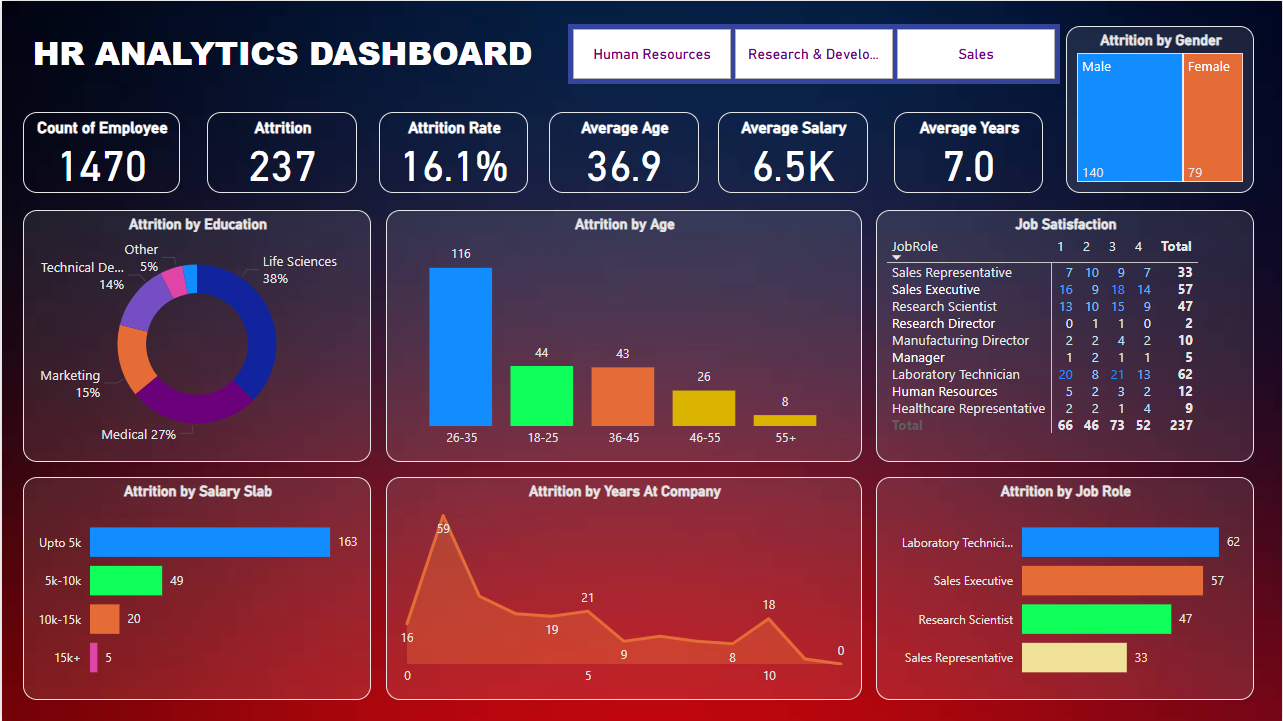

Layout of this report page (visuals, bound fields, positions):
{"tool":"powerbi","page":{"name":"Page 1","canvas":[1280,720],"ordinal":0},"visuals":[{"type":"card","title":"Count of Employee","fields":{"Values":["CountNonNull(HR_Analytics.EmpID)"]},"box":[20.6,111.3,157.1,80.8],"z":0},{"type":"card","title":"Attrition Rate","fields":{"Values":["HR_Analytics.AttritionRate"]},"box":[377.1,111.3,149,80.8],"z":1000},{"type":"card","title":"Average Age","fields":{"Values":["Avg(HR_Analytics.Age)"]},"box":[546.7,111.3,149.9,80.8],"z":2000},{"type":"card","title":"Average Salary","fields":{"Values":["Avg(HR_Analytics.MonthlyIncome)"]},"box":[716.4,111.3,149.9,80.8],"z":3000},{"type":"card","title":"Average Years","fields":{"Values":["Avg(HR_Analytics.YearsAtCompany)"]},"box":[892.4,111.3,149,80.8],"z":4000},{"type":"card","title":"Attrition","fields":{"Values":["Sum(HR_Analytics.AttritionCount)"]},"box":[204.7,111.3,149.9,80.8],"z":5000},{"type":"donutChart","title":" Attrition by Education","fields":{"Category":["HR_Analytics.EducationField"],"Y":["Sum(HR_Analytics.AttritionCount)"]},"box":[20.6,209.2,348.3,251.4],"z":6000},{"type":"columnChart","title":" Attrition by Age","fields":{"Category":["HR_Analytics.AgeGroup"],"Y":["Sum(HR_Analytics.AttritionCount)"]},"box":[384.2,209.2,475.8,251.4],"z":7000},{"type":"pivotTable","title":"Job Satisfaction","fields":{"Rows":["HR_Analytics.JobRole"],"Columns":["HR_Analytics.JobSatisfaction"],"Values":["Sum(HR_Analytics.AttritionCount)"]},"box":[874.4,209.2,378,251.4],"z":8000},{"type":"barChart","title":" Attrition by Salary Slab","fields":{"Category":["HR_Analytics.SalarySlab"],"Y":["Sum(HR_Analytics.AttritionCount)"]},"box":[20.6,475.8,348.3,223.5],"z":9000},{"type":"barChart","title":" Attrition by Job Role","fields":{"Category":["HR_Analytics.JobRole"],"Y":["Sum(HR_Analytics.AttritionCount)"]},"box":[874.4,475.8,378,223.5],"z":10000},{"type":"areaChart","title":" Attrition by Years At Company","fields":{"Category":["HR_Analytics.YearsAtCompany"],"Y":["Sum(HR_Analytics.AttritionCount)"]},"box":[384.2,475.8,475.8,223.5],"z":11000},{"type":"treemap","title":" Attrition by Gender","fields":{"Group":["HR_Analytics.Gender"],"Values":["Sum(HR_Analytics.AttritionCount)"]},"box":[1063.8,25.1,188.5,167],"z":12000},{"type":"advancedSlicerVisual","fields":{"Values":["HR_Analytics.Department"]},"box":[565.6,23.3,492,60.1],"z":13000},{"type":"textbox","box":[21,23.8,518.9,55.7],"z":14000}]}

Visuals, with their boxes in screenshot pixels (x1, y1, x2, y2), scaled from the page's 1280x720 canvas onto the 1283x721 screenshot:
"Count of Employee" card: (x1=21, y1=111, x2=178, y2=192)
"Attrition Rate" card: (x1=378, y1=111, x2=527, y2=192)
"Average Age" card: (x1=548, y1=111, x2=698, y2=192)
"Average Salary" card: (x1=718, y1=111, x2=868, y2=192)
"Average Years" card: (x1=894, y1=111, x2=1044, y2=192)
"Attrition" card: (x1=205, y1=111, x2=355, y2=192)
" Attrition by Education" donutChart: (x1=21, y1=209, x2=370, y2=461)
" Attrition by Age" columnChart: (x1=385, y1=209, x2=862, y2=461)
"Job Satisfaction" pivotTable: (x1=876, y1=209, x2=1255, y2=461)
" Attrition by Salary Slab" barChart: (x1=21, y1=476, x2=370, y2=700)
" Attrition by Job Role" barChart: (x1=876, y1=476, x2=1255, y2=700)
" Attrition by Years At Company" areaChart: (x1=385, y1=476, x2=862, y2=700)
" Attrition by Gender" treemap: (x1=1066, y1=25, x2=1255, y2=192)
advancedSlicerVisual - HR_Analytics.Department: (x1=567, y1=23, x2=1060, y2=84)
textbox: (x1=21, y1=24, x2=541, y2=80)
